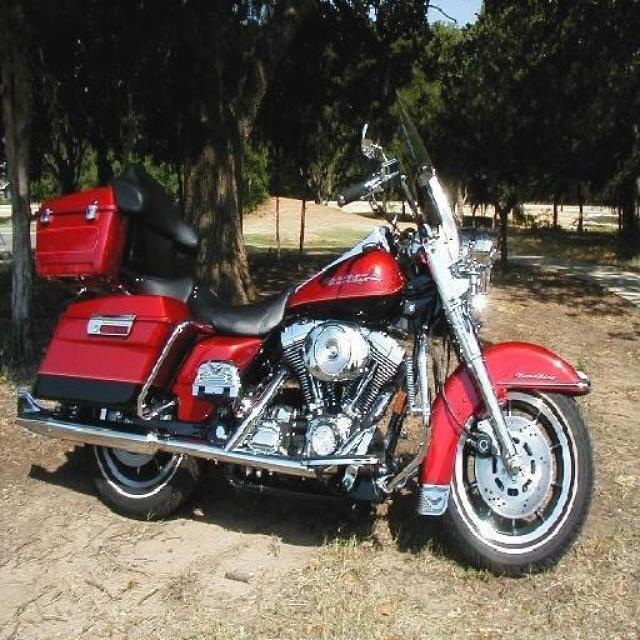All: (8, 162, 598, 572)
Head: (395, 205, 495, 315)
Tail: (30, 285, 105, 373)
